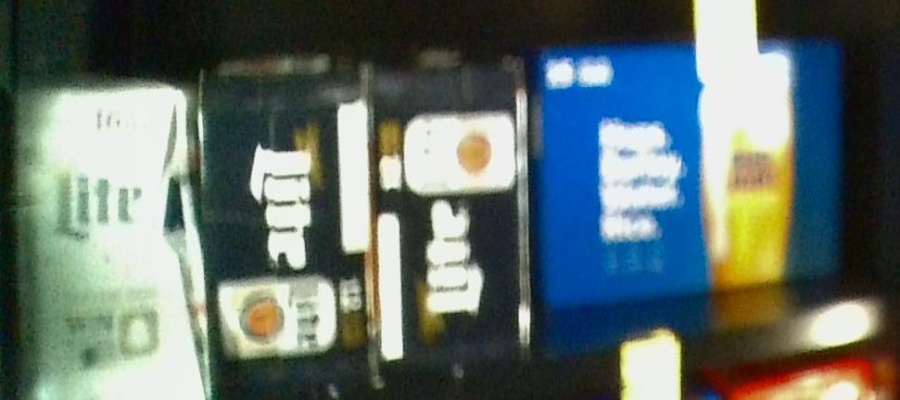bottle: (537, 41, 839, 302), (196, 57, 380, 390), (9, 88, 196, 400), (379, 51, 532, 377)
